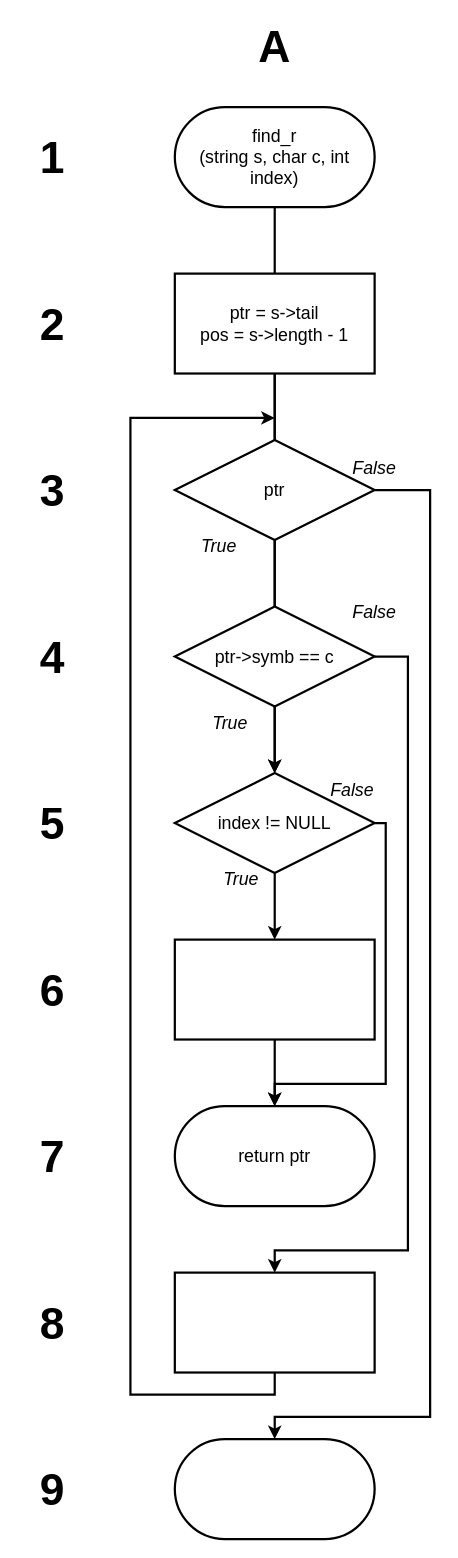
The diagram is 458 pixels wide and 1558 high, and some of its shapes have lost their labels. Here are the shapes that lost their labels. From the top down, the centre of each, then its label:
At (274,989): "index = pos".
At (274,1322): "pos-- ptr = ptr->prev".
At (274,1488): "return NULL".
